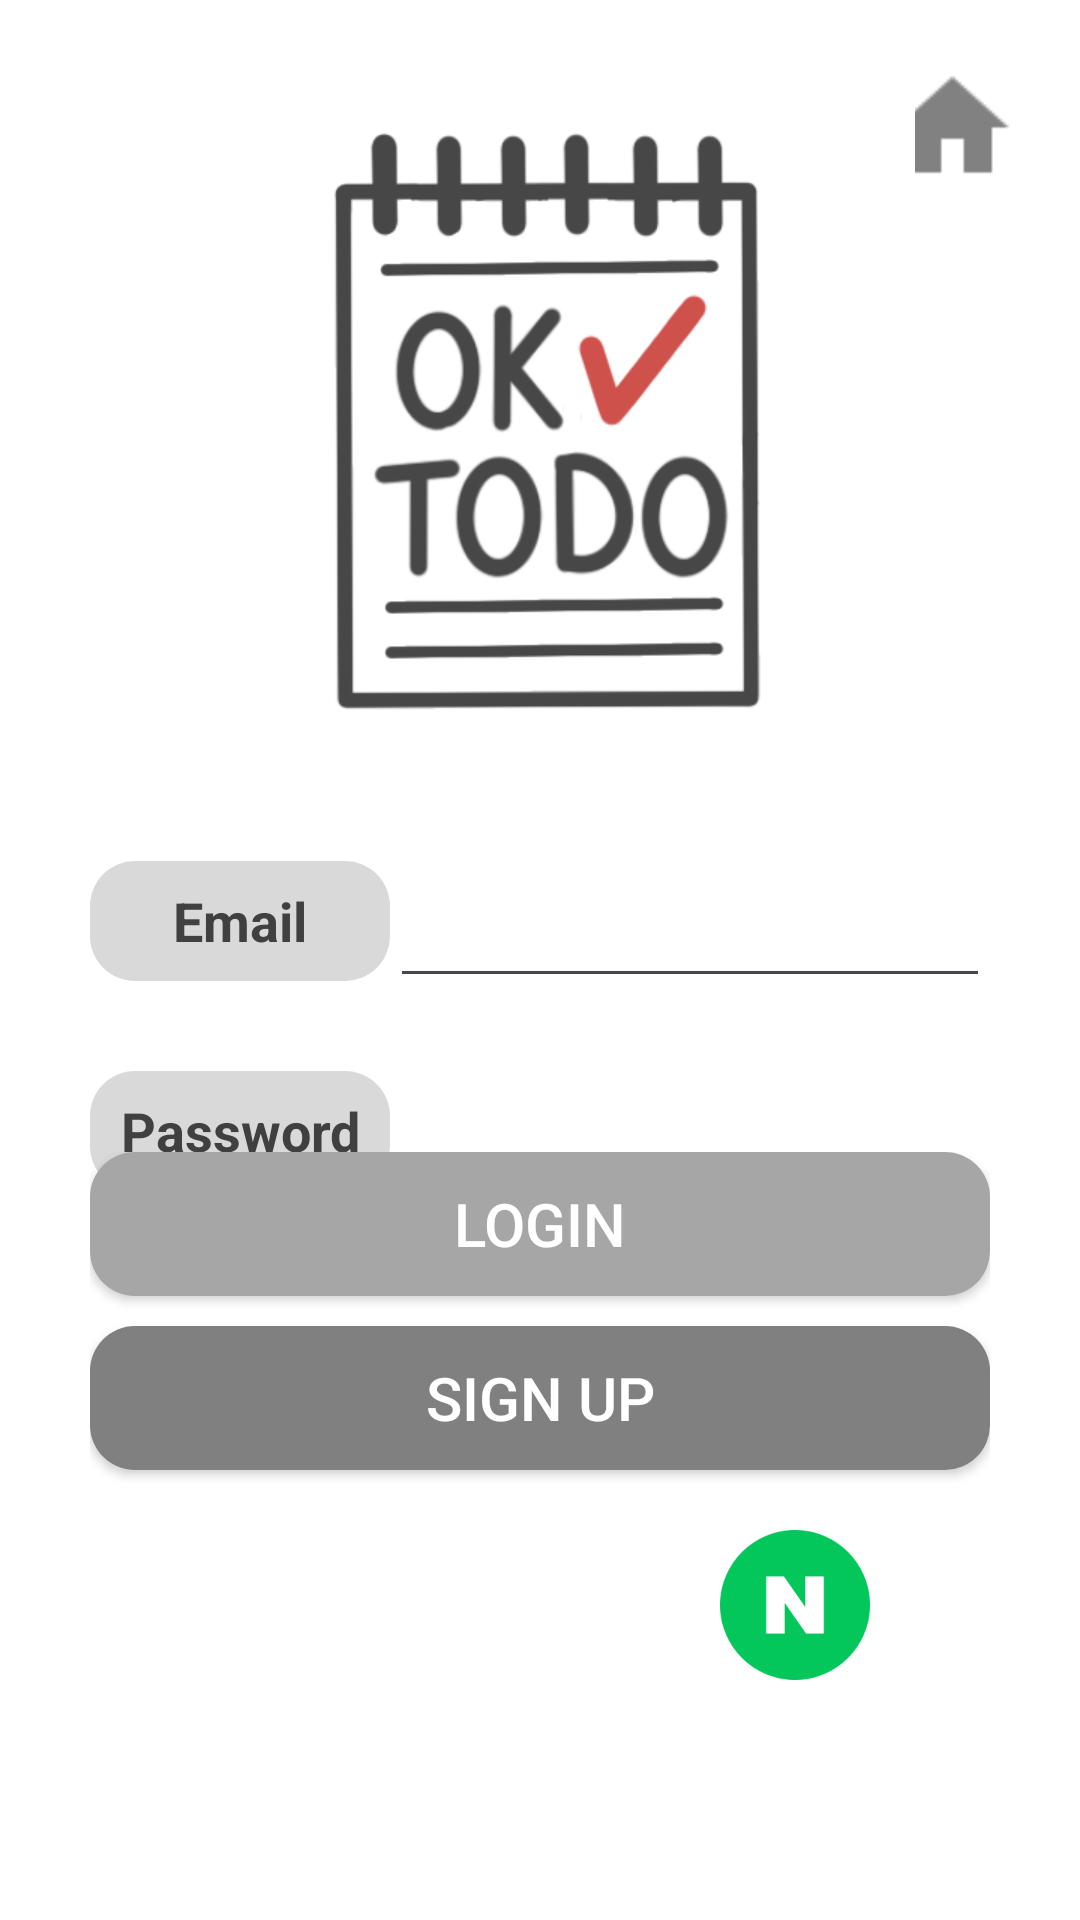

Icon bounding boxes for this 1080w x 1920h phone screenshot, format region(x1, y1, x2, y2):
home: region(915, 76, 1009, 173)
